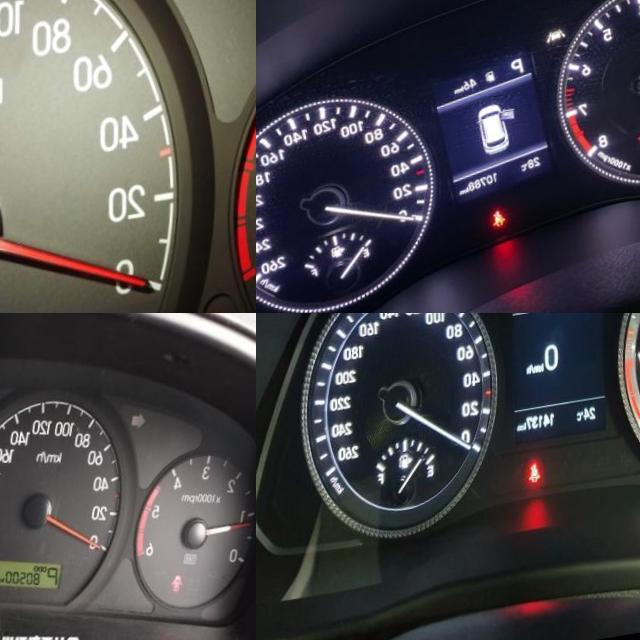Doors: (170, 586, 183, 607)
